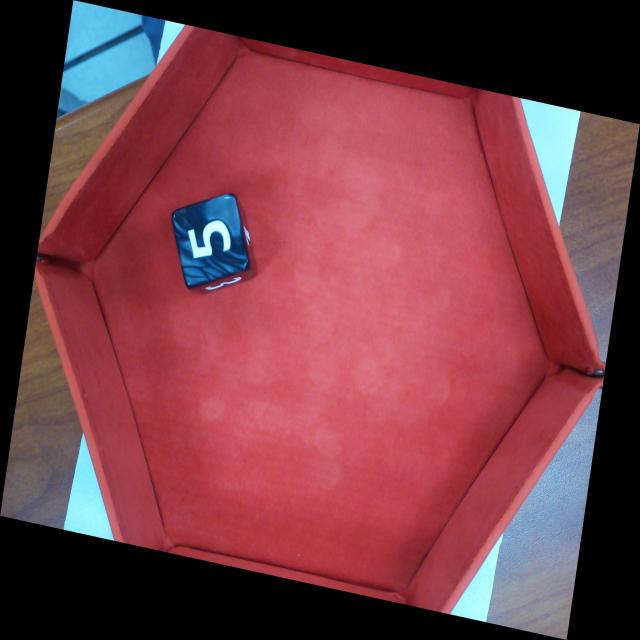dice: (168, 192, 253, 294)
